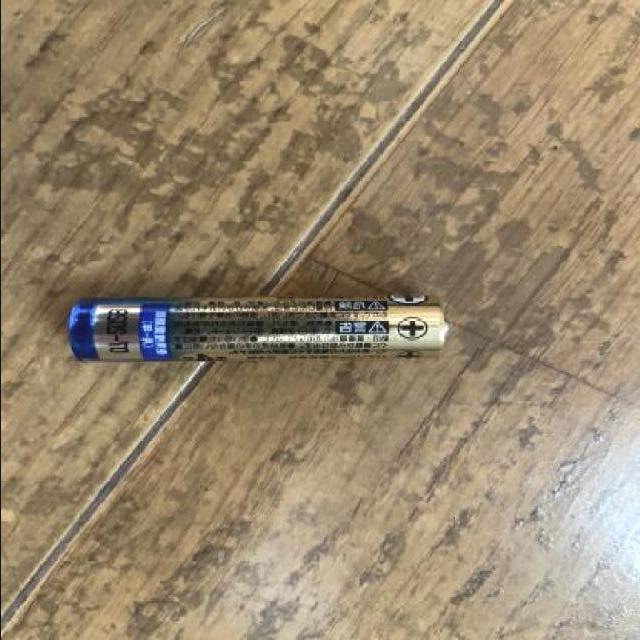AAA: (64, 296, 453, 366)
